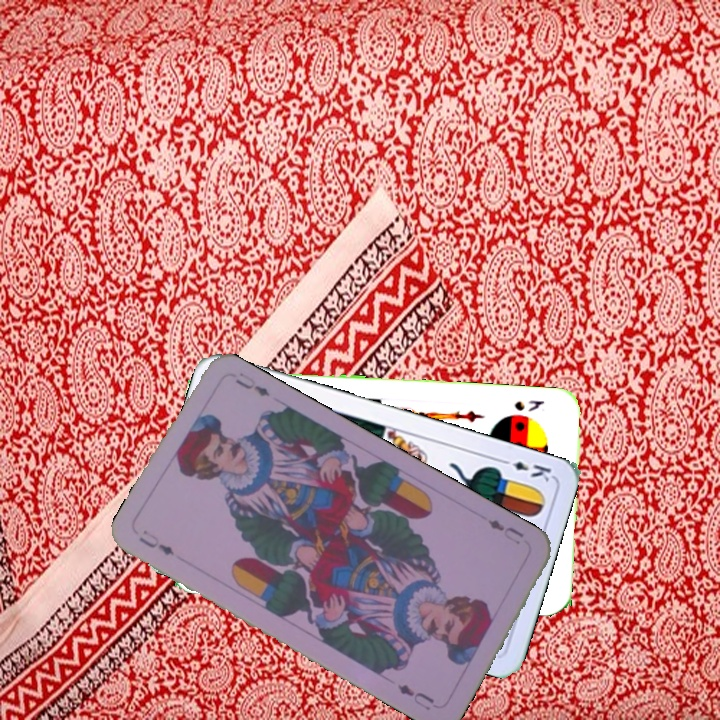EK: (496, 454, 554, 484)
EU: (483, 515, 527, 547), (135, 526, 177, 559)
SK: (510, 396, 547, 414)
